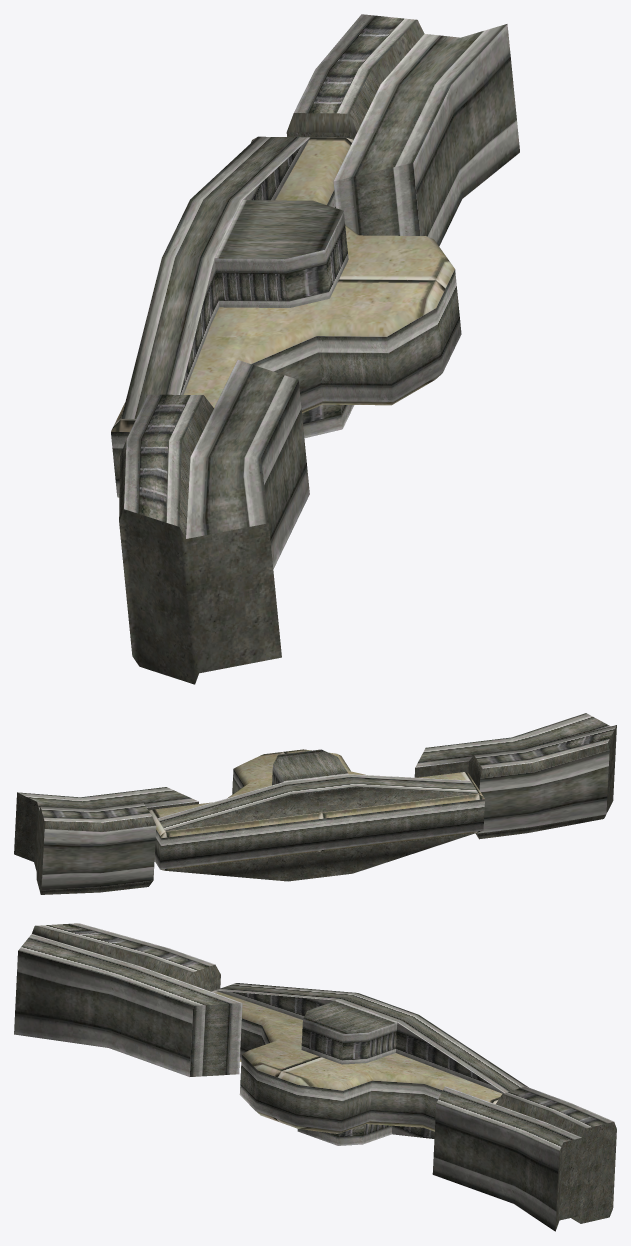
Rendered from DWARF_PALACE_MAINHALL_DEBREE02.fbx.
The picture shows the model from 3 angles, top to bottom: view 1: azimuth 30°, elevation 25°; view 2: azimuth 150°, elevation 25°; view 3: azimuth 270°, elevation 25°; orthographic projection. The views are drawn at different scales.
Parts seen in each view (by area): view 1: DWARF_PALACE_MAINHALL_DEBREE02; view 2: DWARF_PALACE_MAINHALL_DEBREE02; view 3: DWARF_PALACE_MAINHALL_DEBREE02.
Part boxes in pixels (x1,y1,x2,y2): DWARF_PALACE_MAINHALL_DEBREE02: (111, 14, 519, 684); DWARF_PALACE_MAINHALL_DEBREE02: (14, 713, 616, 894); DWARF_PALACE_MAINHALL_DEBREE02: (14, 923, 616, 1231).
Size of the model in its own units: 101702 by 23700 by 110818.
Materials: 4 (4 with a texture image).
